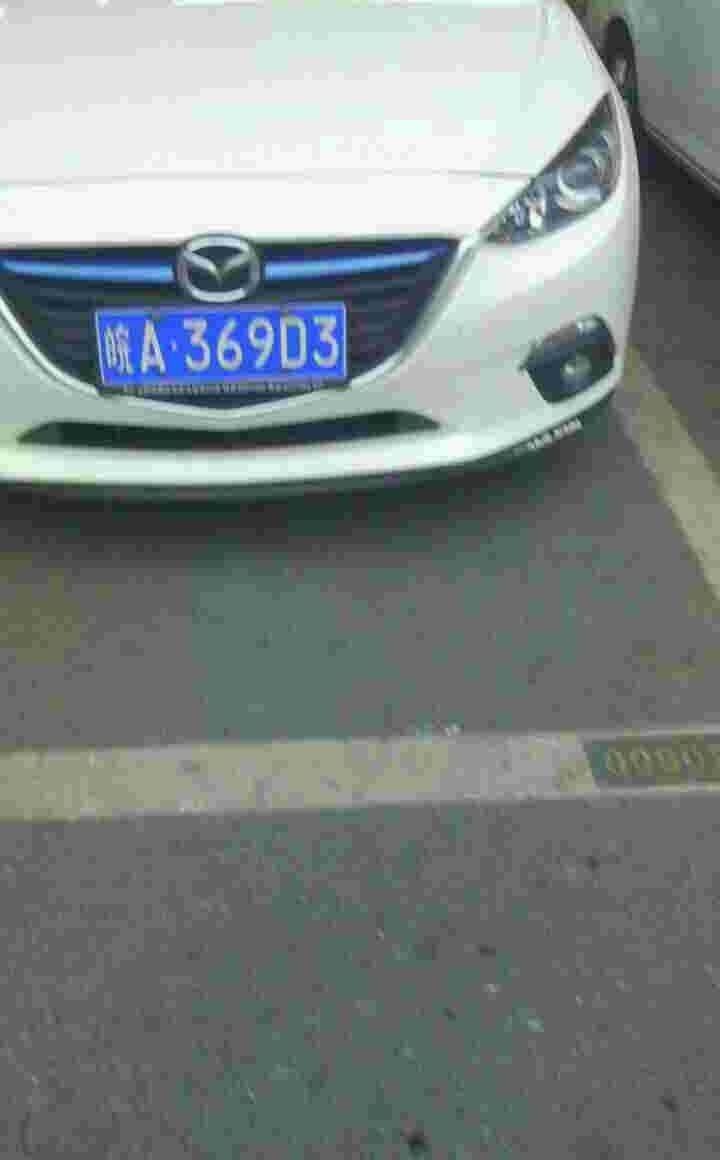plate: (99, 299, 102, 389)
